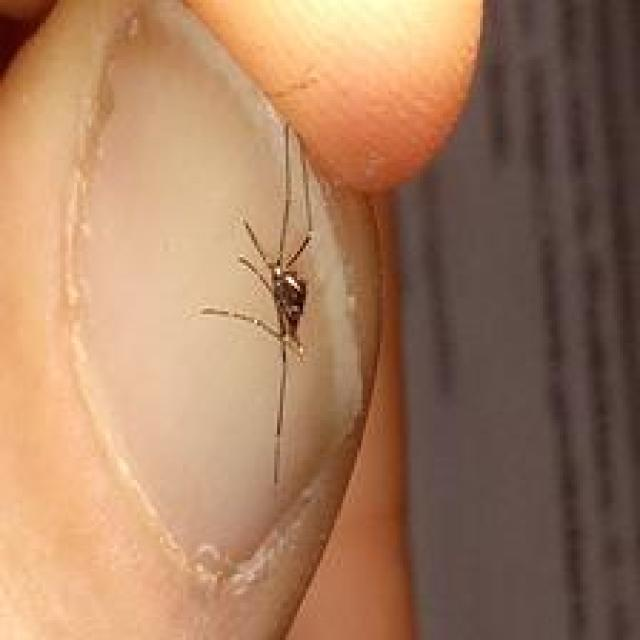Aedes albopictus: (194, 122, 320, 484)
